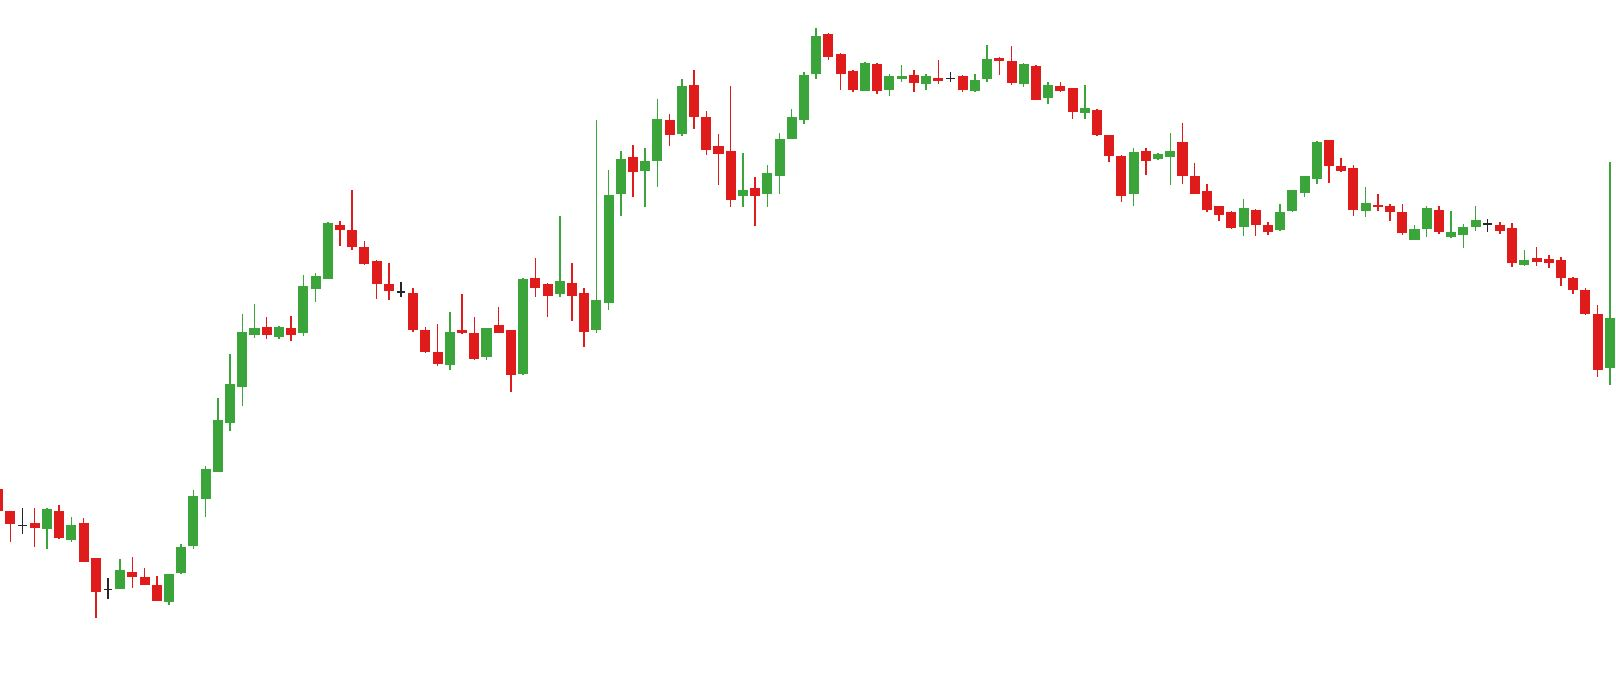buy: (626, 105, 774, 231), (433, 308, 532, 396)
